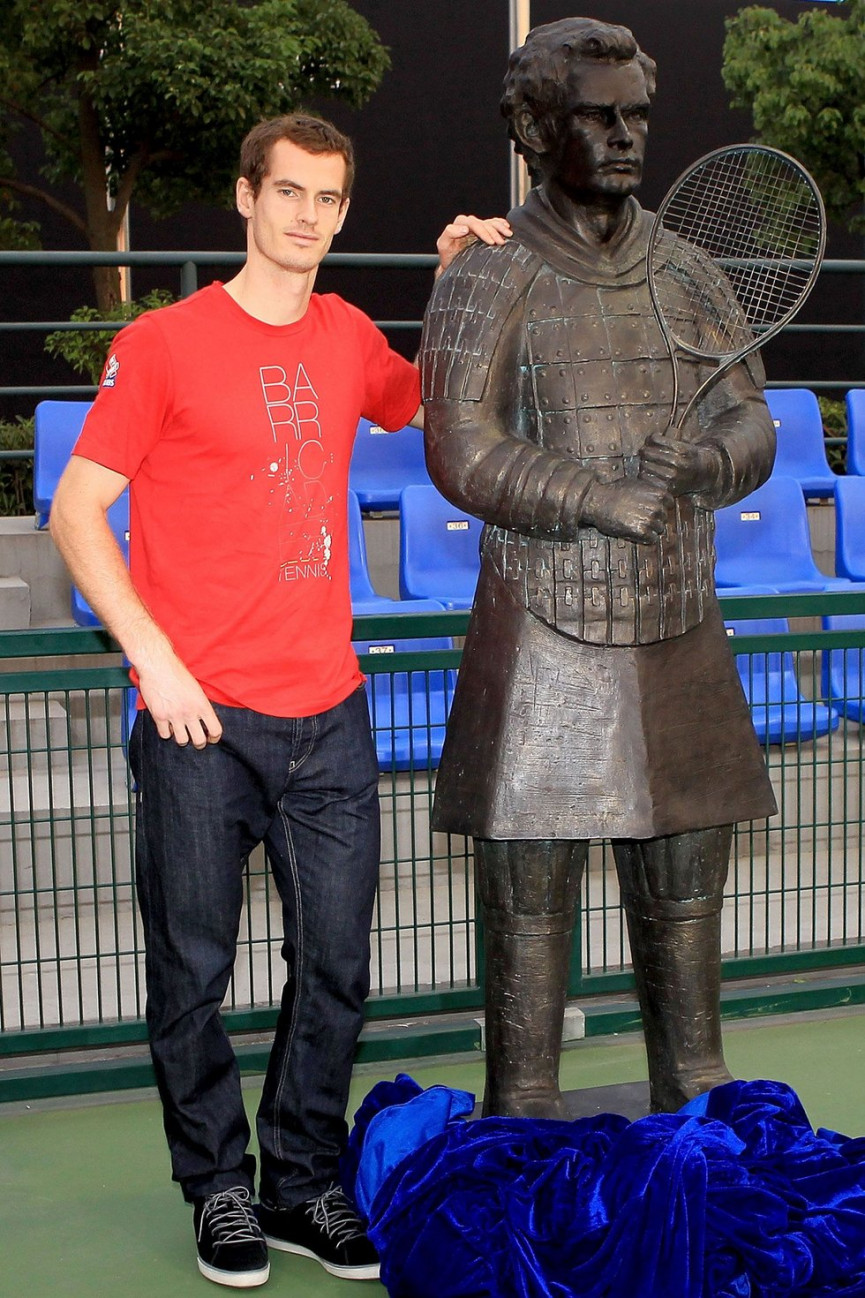person: (40, 96, 522, 1296)
person-like: (416, 9, 789, 1136)
